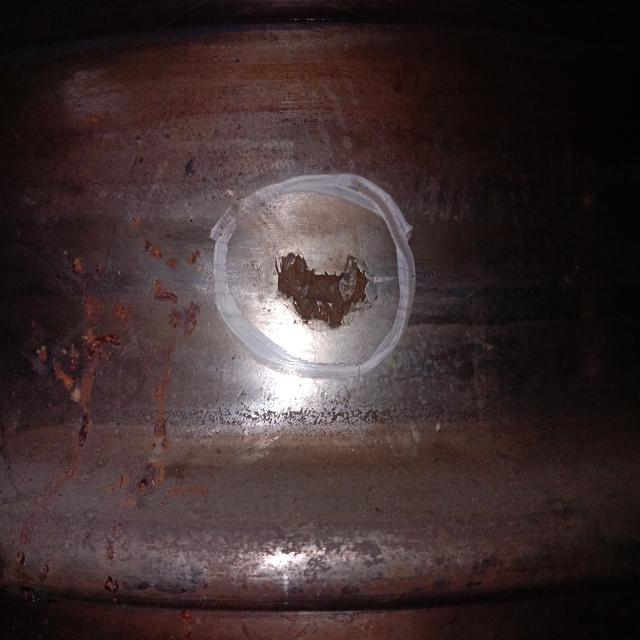Blue hole: (260, 227, 381, 338)
